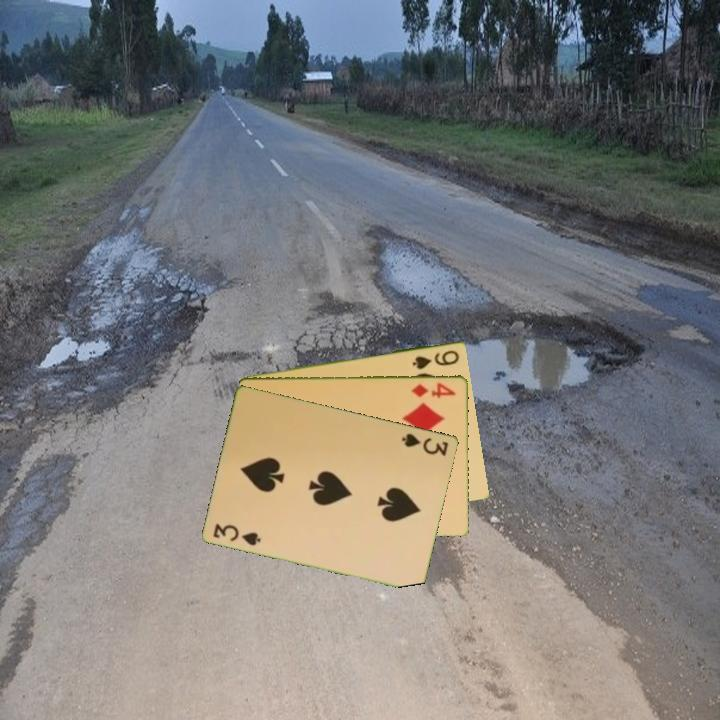3s: (399, 429, 451, 459), (210, 520, 264, 548)
4d: (408, 379, 459, 400)
9s: (409, 346, 462, 372)
